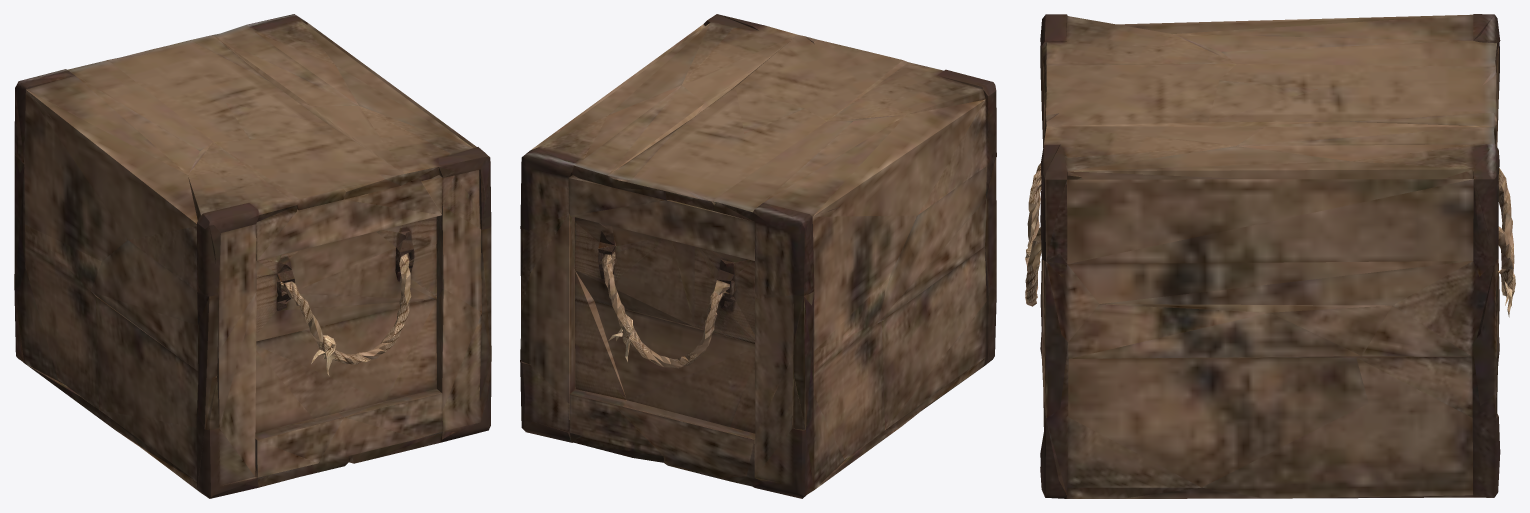
File: crate.glb
3 renders of one model, left to right at view 1: azimuth 30°, elevation 25°; view 2: azimuth 150°, elevation 25°; view 3: azimuth 270°, elevation 25°, orthographic. The views are drawn at different scales.
Parts seen in each view (by area): view 1: Mesh_0; view 2: Mesh_0; view 3: Mesh_0.
Boxes of the visible parts, x1,y1,x2,y2 form: Mesh_0: [14, 14, 491, 498]; Mesh_0: [520, 14, 996, 498]; Mesh_0: [1025, 14, 1515, 498].
Size of the model in its own units: 1.51 by 1.41 by 1.9.
1 material, 1 textured.
